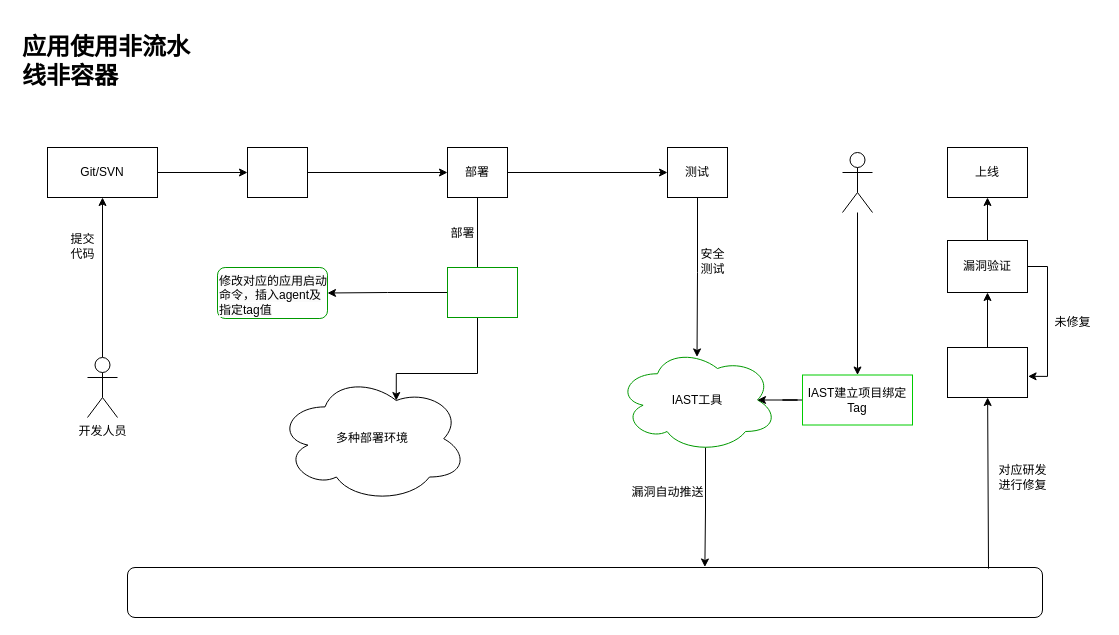
Some shapes in this 1119 by 635 pixel diagram are drawn without their labels. Each missing label, with the centre of its shape:
"JIRA" goes at (x=584, y=592).
"安全人员" goes at (x=857, y=182).
"插入agent" goes at (x=482, y=292).
"漏洞修复" goes at (x=987, y=372).
"编译" goes at (x=277, y=172).
